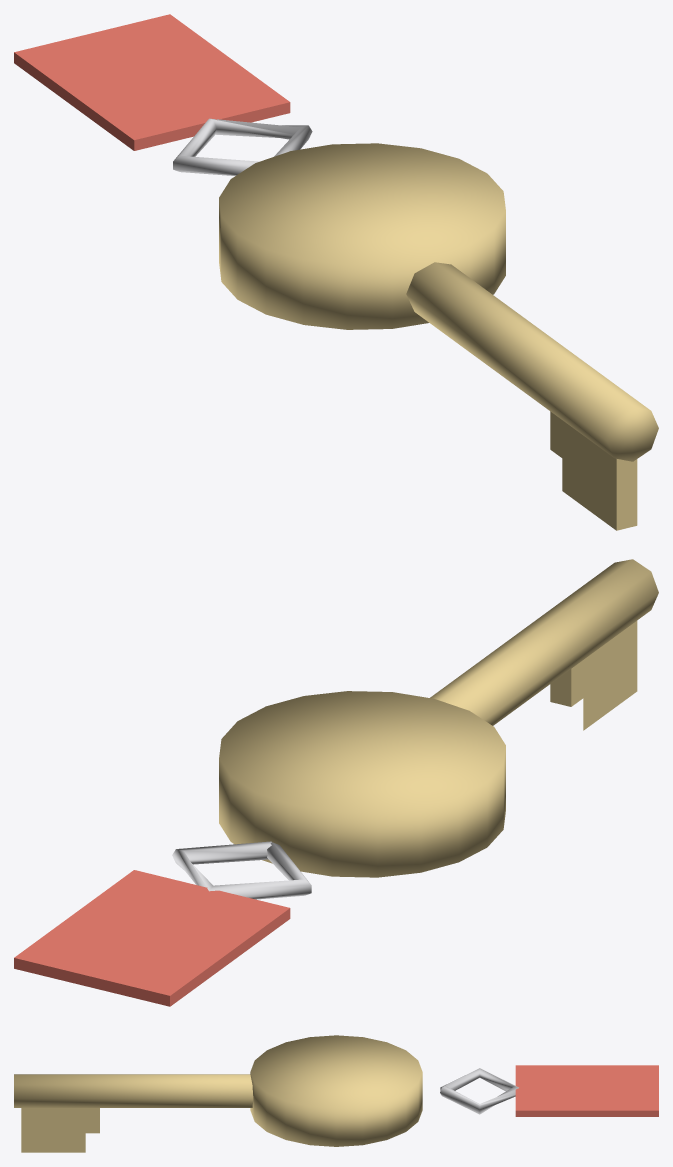
File: key.glb
3 views of the same model, one above another, from view 1: azimuth 30°, elevation 25°; view 2: azimuth 150°, elevation 25°; view 3: azimuth 270°, elevation 25° (orthographic). The views are drawn at different scales.
Visible parts, largest first — view 1: Key; view 2: Key; view 3: Key.
Boxes of the visible parts, x1,y1,x2,y2 form: Key: [14, 14, 658, 530]; Key: [14, 559, 658, 1006]; Key: [14, 1035, 658, 1152].
Size of the model in its own units: 0.048 by 0.024 by 0.18.
